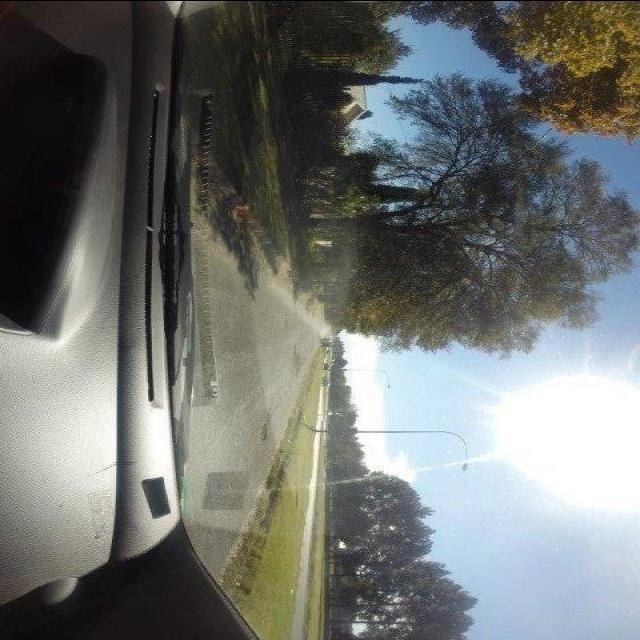jalan retak: (288, 344, 306, 376)
lubang: (258, 411, 274, 444)
